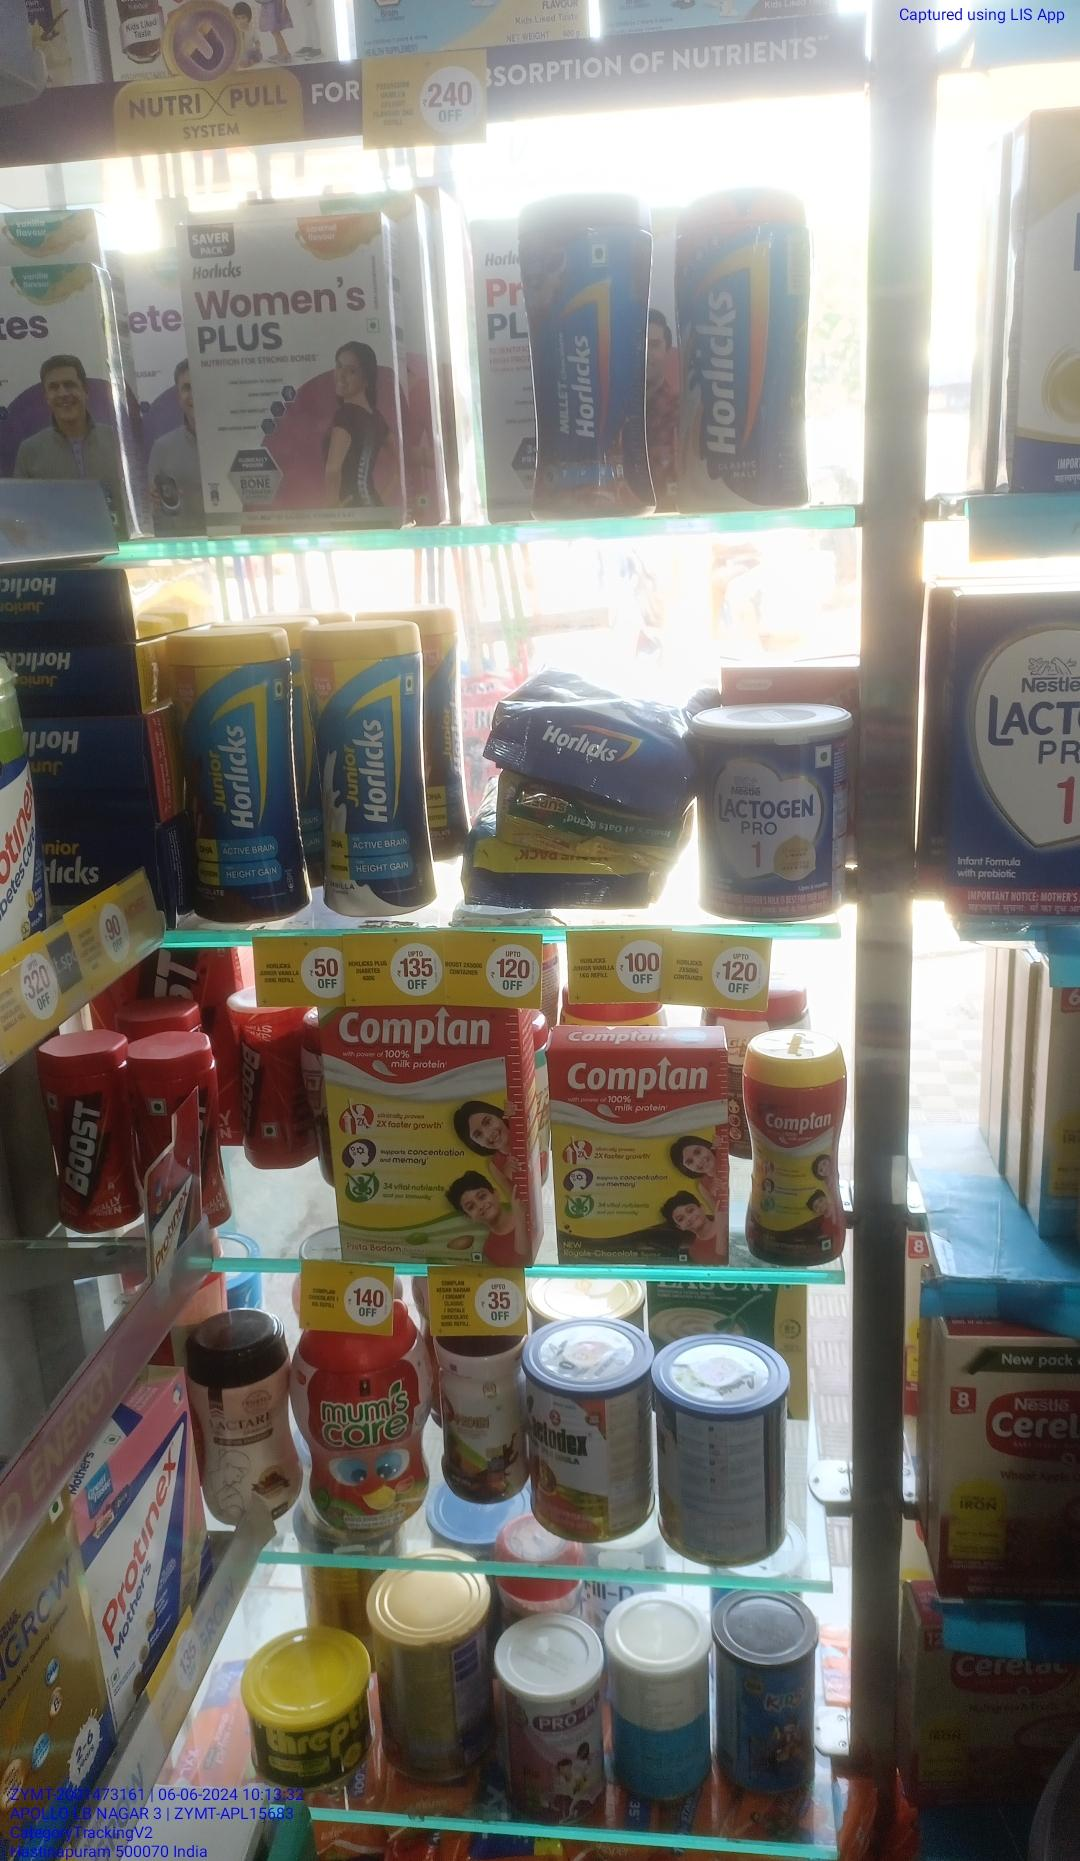COMPLAN_CHOCOLATE_200_GMS_JAR: (744, 1045, 846, 1261)
COMPLAN_PISTA_BADAM_500_GMS_PACK: (328, 1006, 521, 1261)
HORLICKS_JUNIOR_VANILLA_500_GM_JAR: (310, 627, 431, 918)
HORLICK_CLASSIC_MALT_500_G_JAR: (674, 195, 807, 508)
